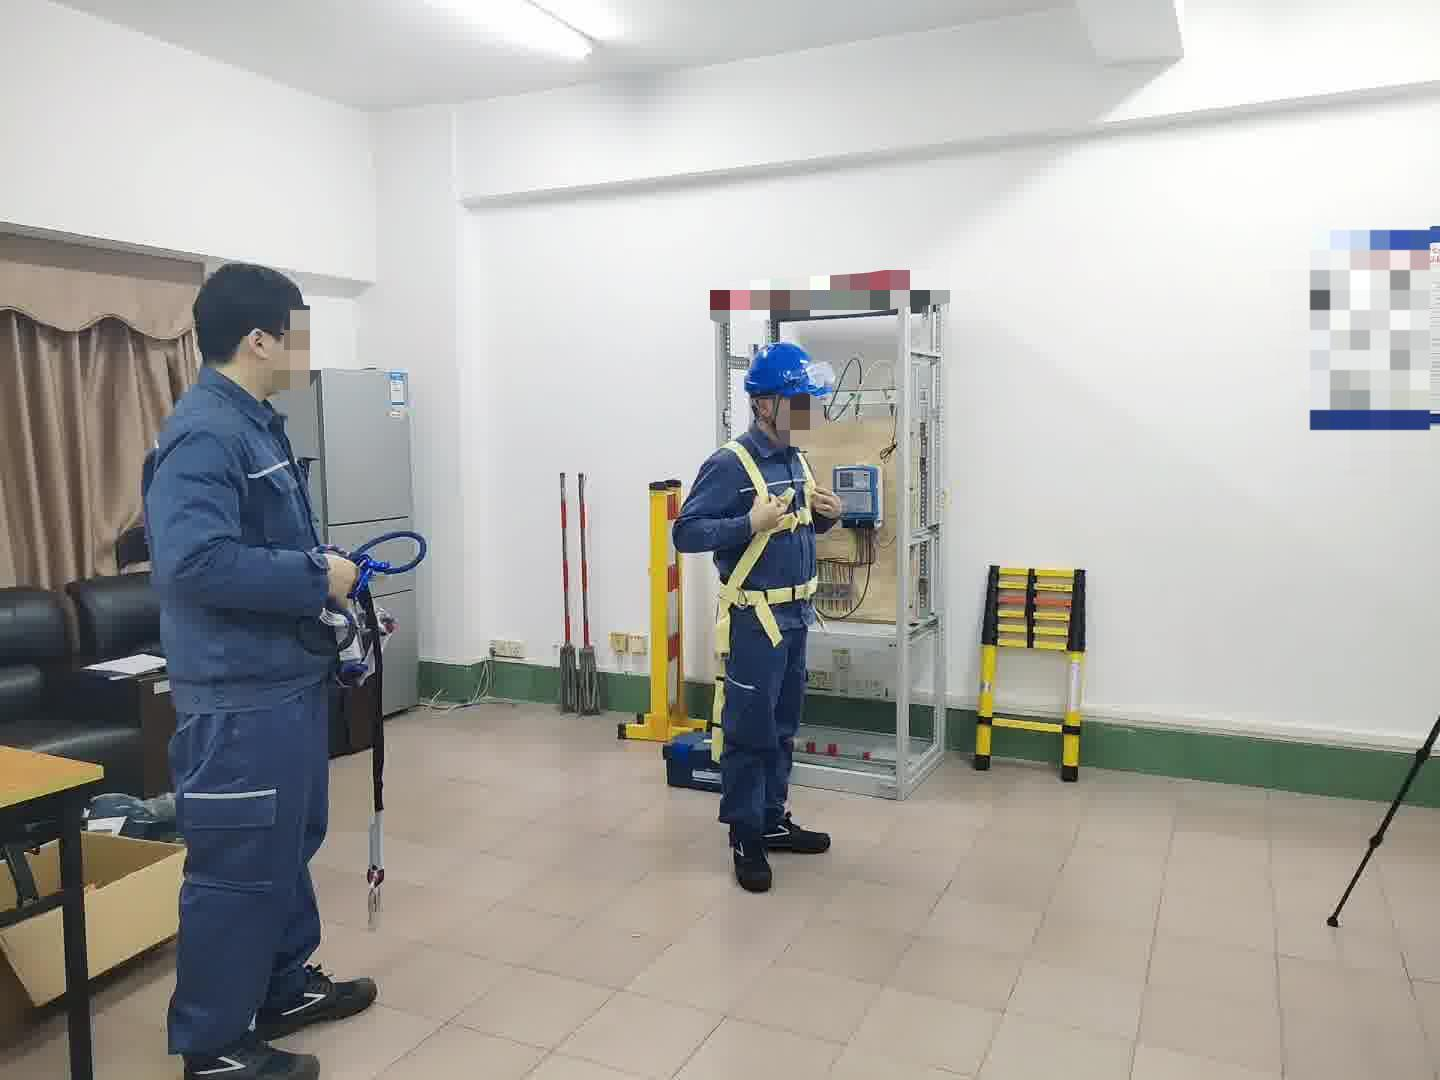halt: (742, 346, 824, 441)
inear: (754, 394, 788, 434)
noear: (237, 324, 283, 376)
unhalt: (193, 264, 319, 397)
